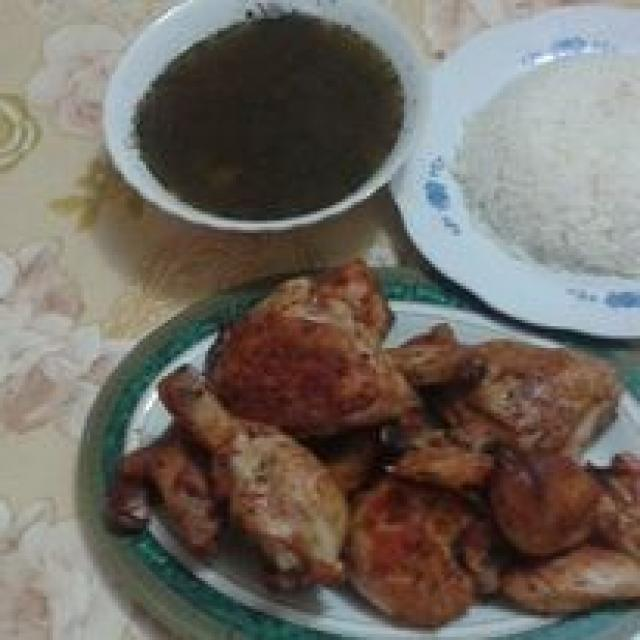Chicken Wings: (143, 367, 345, 587)
White Rice: (448, 37, 640, 281)
